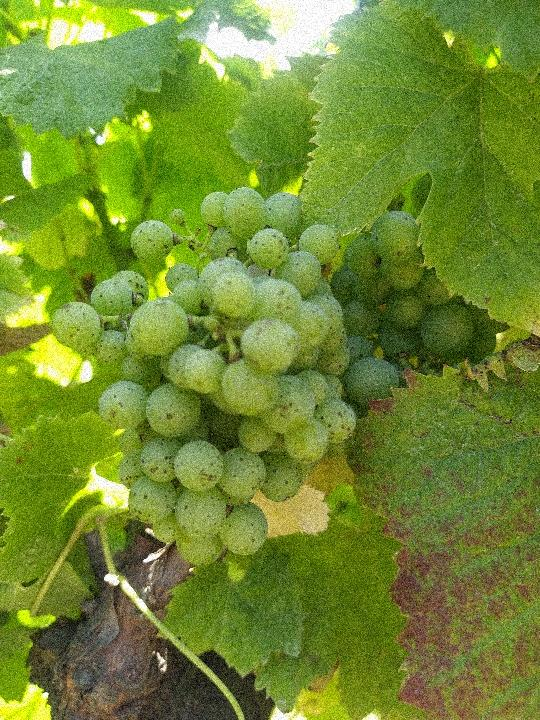grape: (50, 183, 407, 570)
